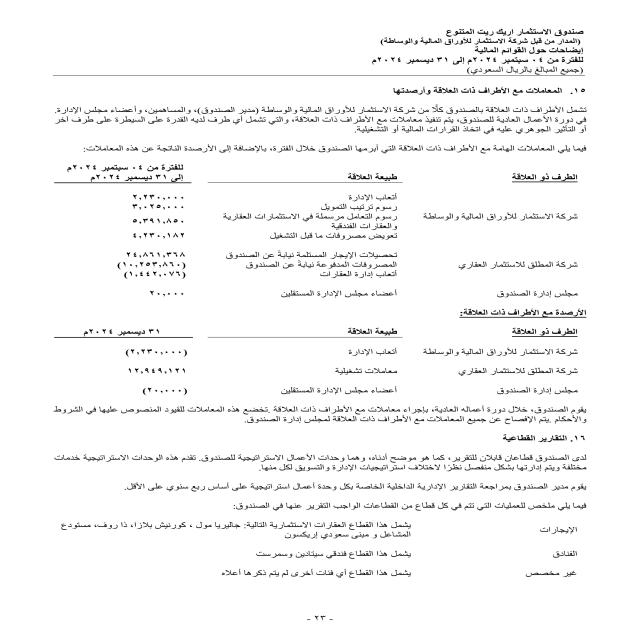notes: (456, 46, 592, 56)
table: (54, 163, 591, 303), (43, 319, 597, 403)
